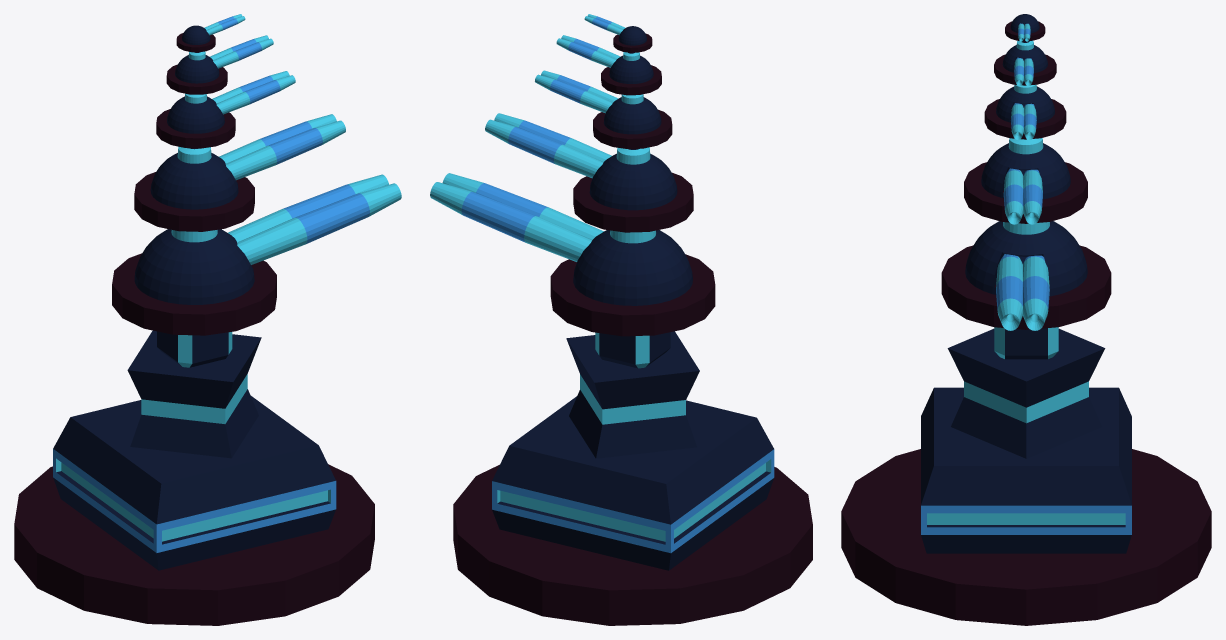
File: HydrogenTurret5.fbx
3 views of the same model, side by side, from view 1: azimuth 30°, elevation 25°; view 2: azimuth 150°, elevation 25°; view 3: azimuth 270°, elevation 25° (orthographic). The views are drawn at different scales.
Parts seen in each view (by area): view 1: Cube, Cylinder, Cube.001, Sphere, Cylinder.001, Torus, Sphere.002, Cylinder.003, Torus.005, Torus.001, Cube.002, Sphere.003 (+6 smaller); view 2: Cube, Cylinder, Cube.001, Sphere, Cylinder.001, Torus.001, Sphere.002, Cylinder.003, Torus.004, Torus, Cube.002, Sphere.003 (+6 smaller); view 3: Cylinder, Cube, Cube.001, Sphere, Cylinder.001, Sphere.002, Cylinder.003, Cube.002, Torus, Torus.001, Sphere.003, Cylinder.004 (+4 smaller).
Boxes of the visible parts, <box> form: Cube: <box>53,395,336,570</box>; Cylinder: <box>14,464,374,625</box>; Cube.001: <box>127,330,261,458</box>; Sphere: <box>134,229,254,304</box>; Cylinder.001: <box>112,253,276,335</box>; Torus: <box>237,183,401,264</box>; Sphere.002: <box>150,146,238,209</box>; Cylinder.003: <box>134,172,254,231</box>; Torus.005: <box>225,120,345,180</box>; Torus.001: <box>228,174,388,242</box>; Cube.002: <box>157,331,232,367</box>; Sphere.003: <box>167,93,224,133</box>; Cube: <box>492,396,774,570</box>; Cylinder: <box>453,464,812,625</box>; Cube.001: <box>566,331,699,458</box>; Sphere: <box>573,230,692,305</box>; Cylinder.001: <box>550,254,715,336</box>; Torus.001: <box>430,182,591,261</box>; Sphere.002: <box>589,147,677,210</box>; Cylinder.003: <box>573,172,693,232</box>; Torus.004: <box>485,119,603,178</box>; Torus: <box>442,173,603,239</box>; Cube.002: <box>595,332,670,368</box>; Sphere.003: <box>603,94,661,134</box>; Cylinder: <box>841,449,1211,625</box>; Cube: <box>921,387,1131,553</box>; Cube.001: <box>947,328,1105,458</box>; Sphere: <box>965,221,1087,296</box>; Cylinder.001: <box>941,245,1111,329</box>; Sphere.002: <box>981,138,1070,199</box>; Cylinder.003: <box>964,162,1087,223</box>; Cube.002: <box>994,327,1058,359</box>; Torus: <box>996,254,1022,330</box>; Torus.001: <box>1023,255,1049,330</box>; Sphere.003: <box>996,84,1054,123</box>; Cylinder.004: <box>984,99,1066,139</box>.
Size of the model in its own units: 673 by 954 by 600.
